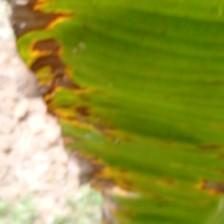cordana: (9, 0, 224, 224)
